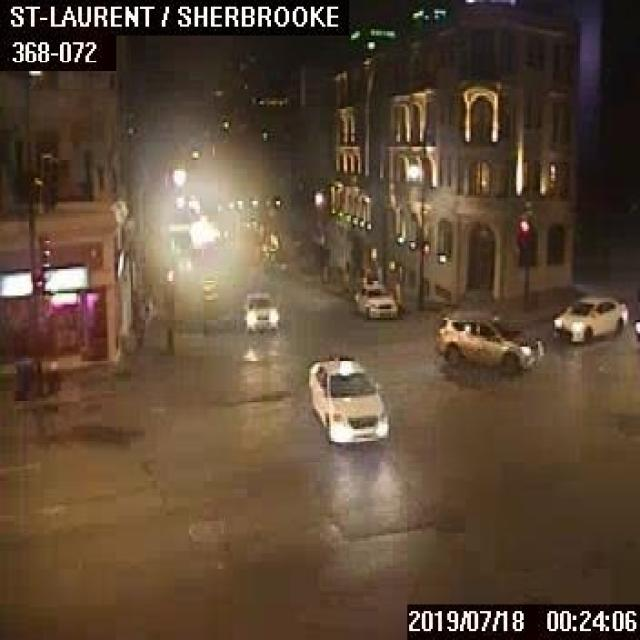vehicle: (304, 351, 391, 442), (438, 309, 542, 368), (551, 292, 627, 338), (240, 289, 280, 333), (353, 278, 397, 317)
